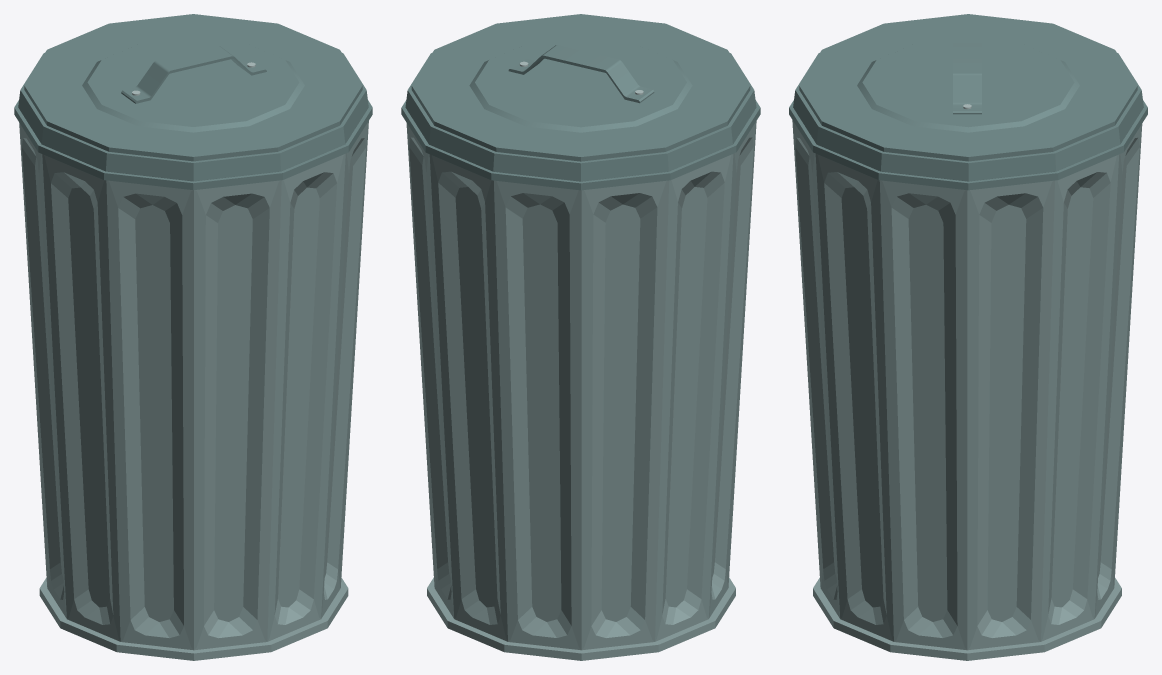
The model's file is colouredFull_bin.fbx.
3 renders of one model, left to right at view 1: azimuth 30°, elevation 25°; view 2: azimuth 150°, elevation 25°; view 3: azimuth 270°, elevation 25°, orthographic.
Visible parts, largest first — view 1: Bin_Body2; view 2: Bin_Body2; view 3: Bin_Body2.
Boxes of the visible parts, bbox=[...] form: Bin_Body2: bbox=[14, 14, 372, 660]; Bin_Body2: bbox=[401, 14, 760, 660]; Bin_Body2: bbox=[789, 14, 1147, 660].
Bounding box in the file's own units: 1.02 × 1.69 × 1.02.
